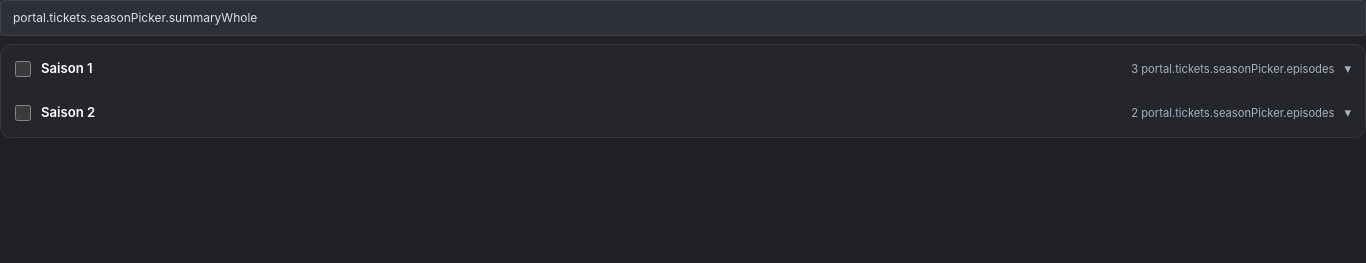
Test: TicketSeasonPicker › names each season checkbox and opens its episodes from the keyboard
Click the button with class "tsp-chevron" next to "3 portal.tickets.seasonPicker.episodes".
click(1348, 69)  # box [1344,59,1351,79]
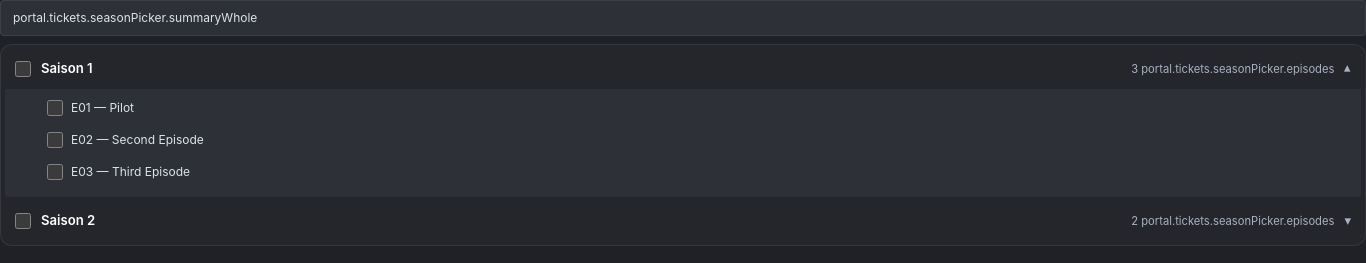
Now the button with class "tsp-chevron" next to "3 portal.tickets.seasonPicker.episodes" is expanded, box [1344,59,1351,79]
Now the number of labels with class "tsp-episode" is 3, box [47,100,134,116]; [47,132,204,148]; [47,164,190,180]
